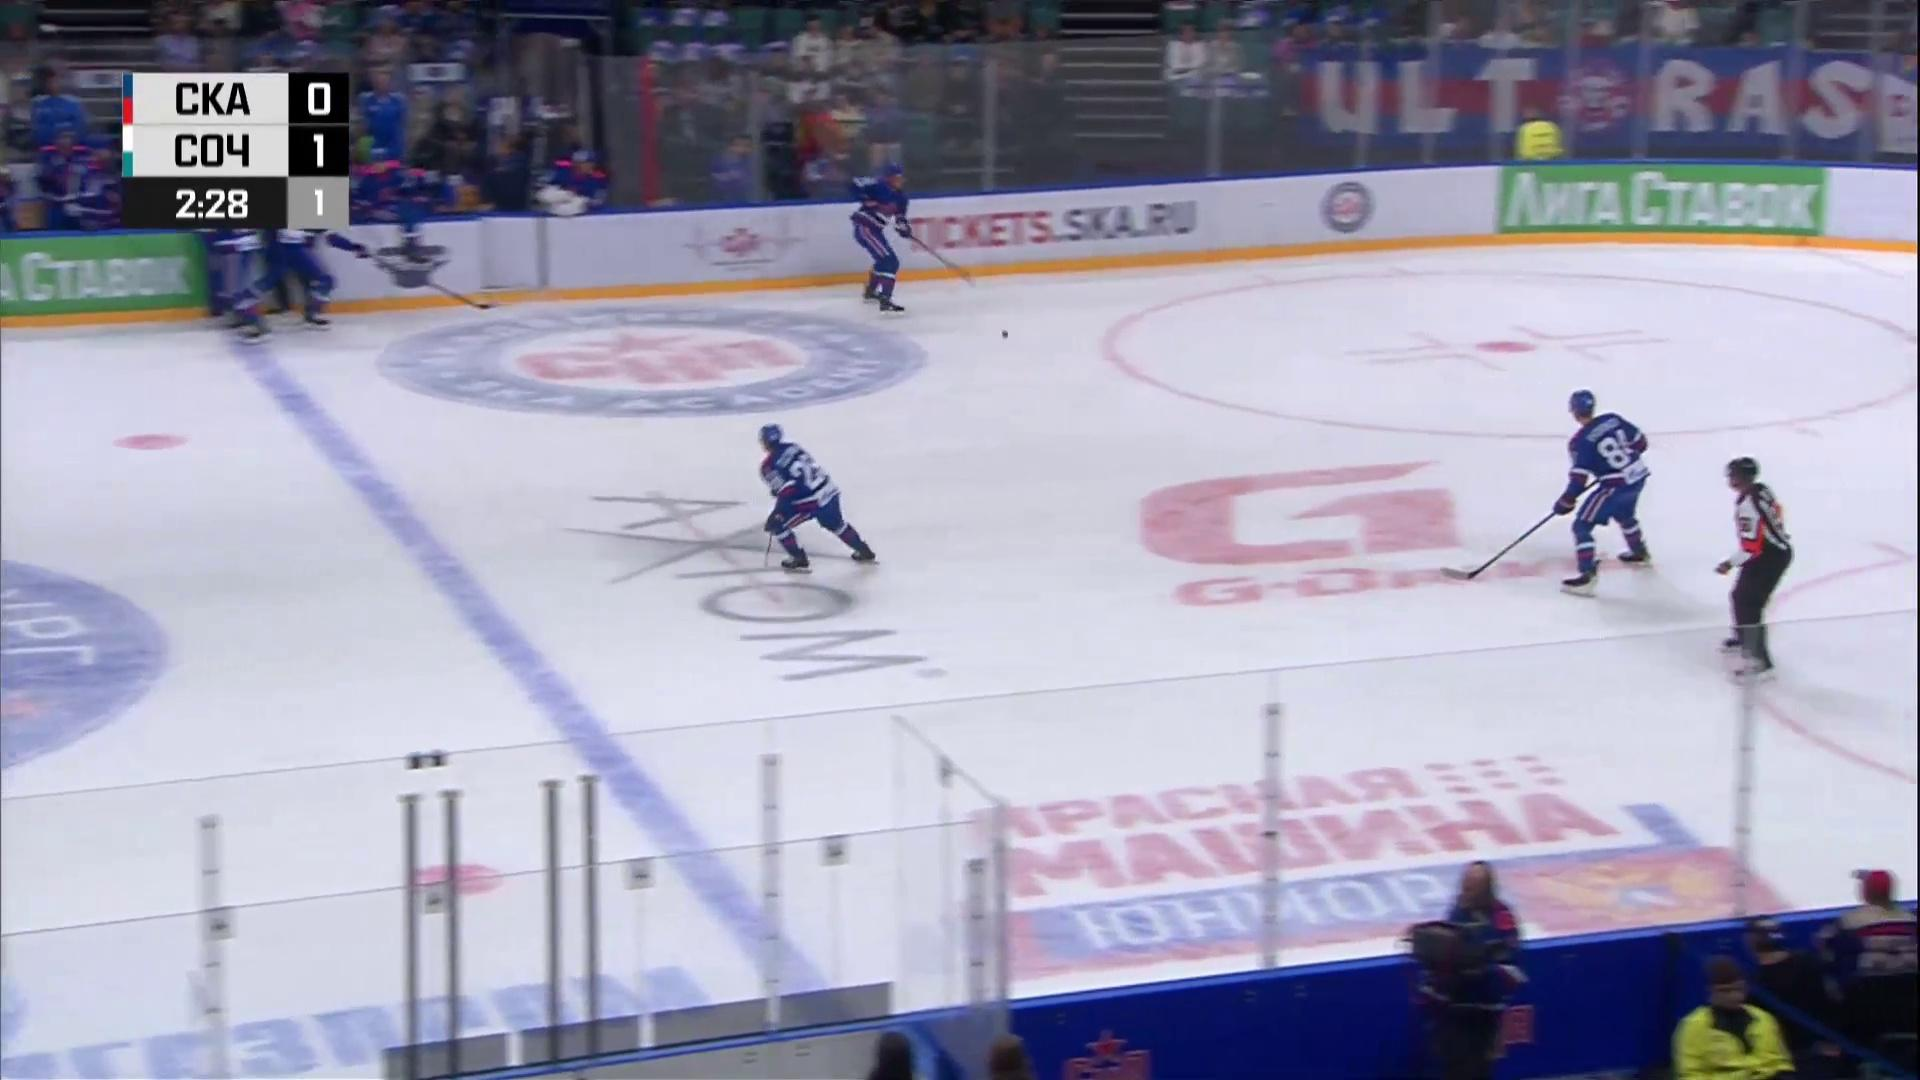ball: (1001, 330, 1007, 339)
